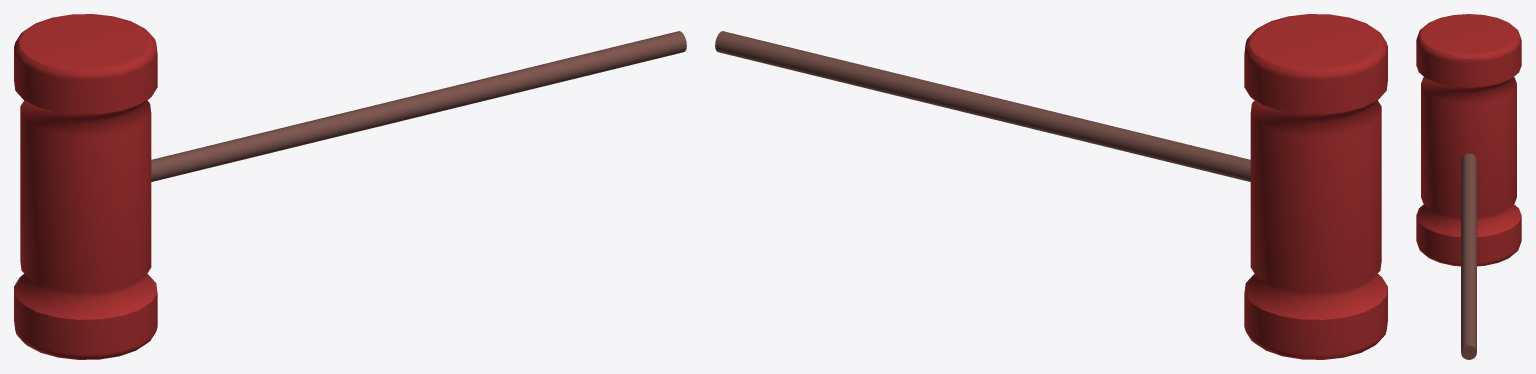
Rendered from SM_Hammer.fbx.
3 views of the same model, side by side, from view 1: azimuth 30°, elevation 25°; view 2: azimuth 150°, elevation 25°; view 3: azimuth 270°, elevation 25° (orthographic). The views are drawn at different scales.
Parts seen in each view (by area): view 1: SM_Hammer; view 2: SM_Hammer; view 3: SM_Hammer.
Boxes of the visible parts, x1,y1,x2,y2 form: SM_Hammer: (14,14,686,359); SM_Hammer: (715,14,1387,359); SM_Hammer: (1416,14,1521,359).
Bounding box in the file's own units: 1.82 × 0.77 × 0.3449.
